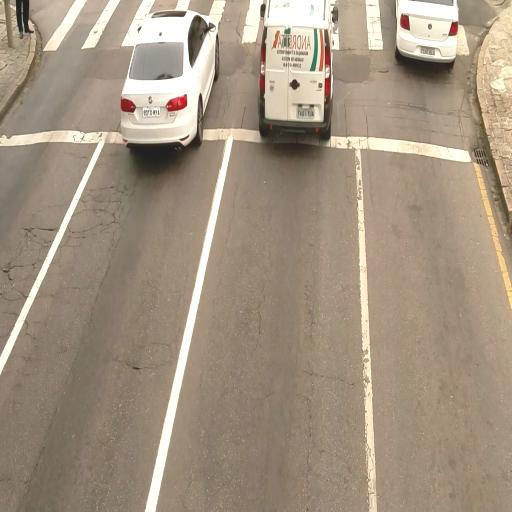car: (119, 8, 221, 151), (256, 2, 337, 143), (394, 1, 460, 69)
